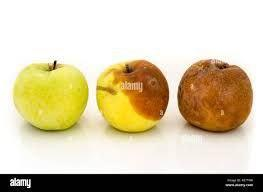Apple: (177, 58, 254, 134), (12, 61, 89, 131), (96, 60, 170, 132)
